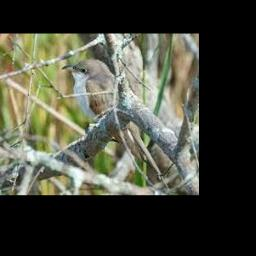Cuckoo: (61, 59, 156, 166)
